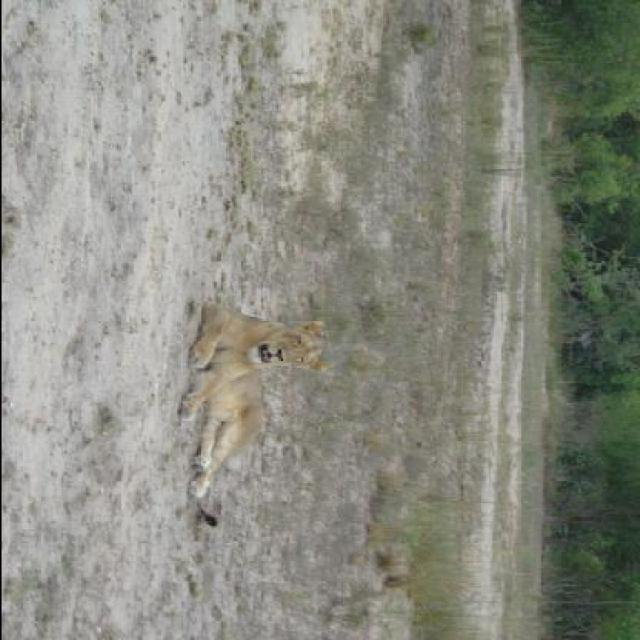Lion: (160, 298, 338, 540)
